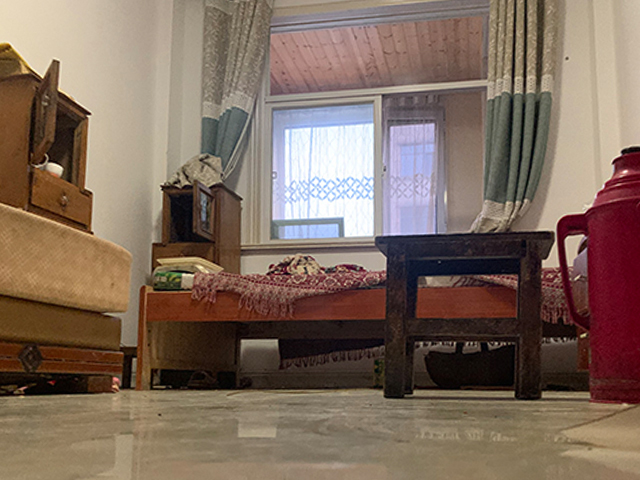bed: (133, 252, 584, 393)
curtain: (472, 1, 557, 232), (191, 1, 269, 193)
sofa: (1, 204, 133, 393)
stool: (375, 230, 556, 401)
